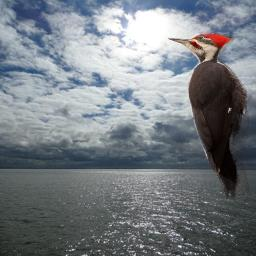Woodpecker: (164, 33, 252, 199)
